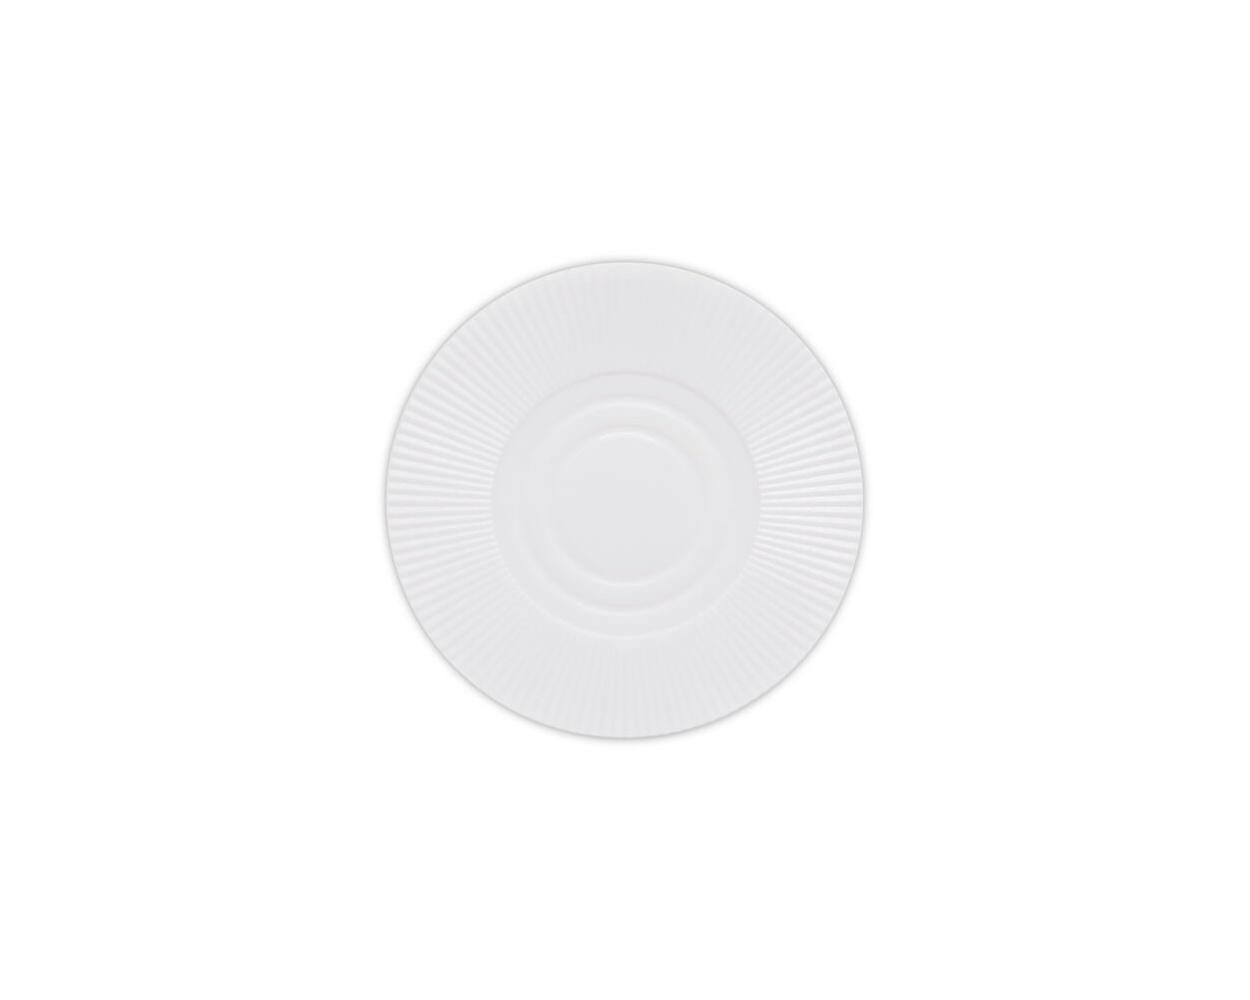chip-white: (386, 261, 864, 736)
